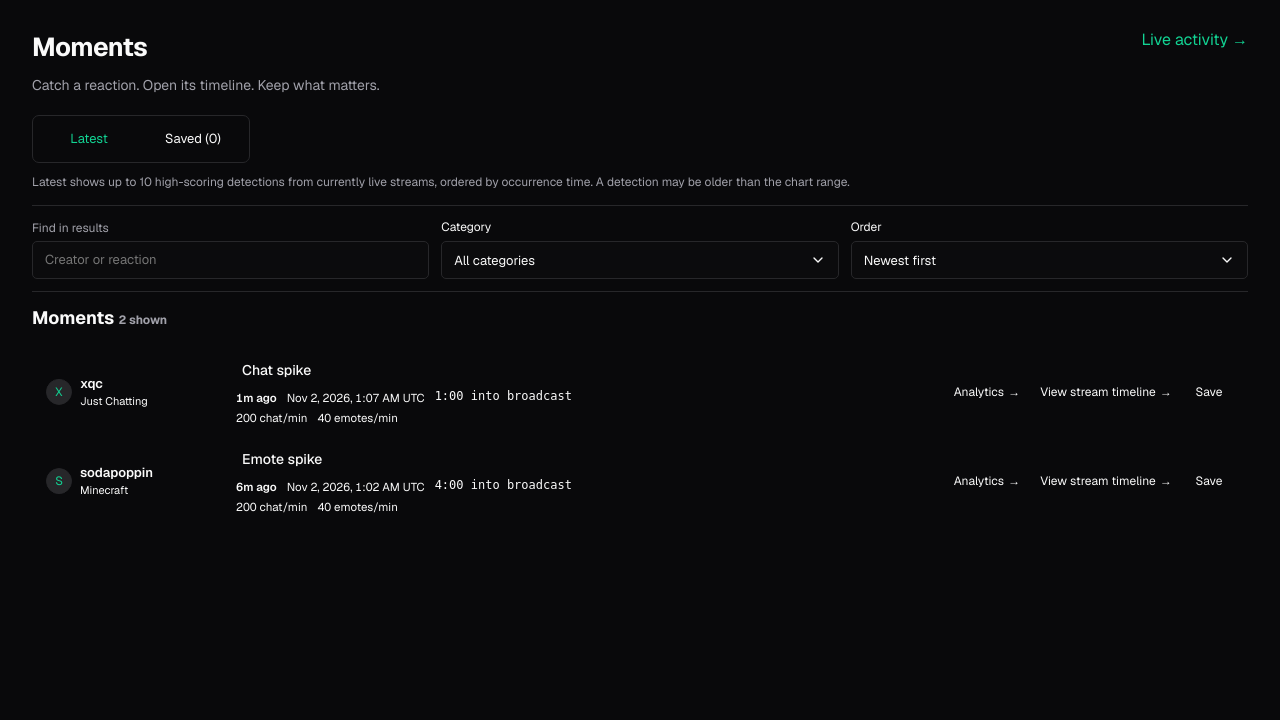
Scenario: moments open in line › opens under the clicked row without changing the list layout
Click the button with class "moments-card-primary" showing "Chat spike" at (277, 370), box [236,355,317,385]
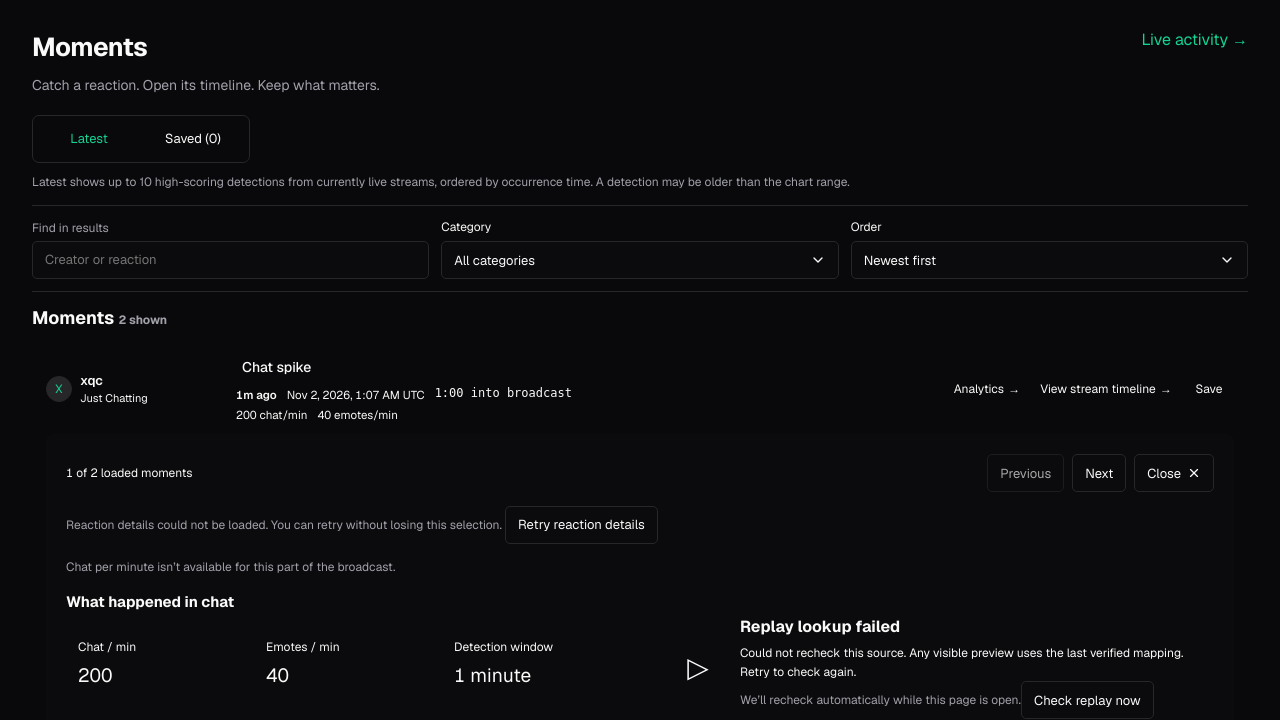
Now the button with class "moments-card-primary" is expanded, box [236,354,317,384]
Now the element with class "moments-detail-head" shows "1 of 2 loaded moments", box [66,465,192,481]
Now the button with aria-label "Previous moment" is disabled, box [987,454,1064,492]
